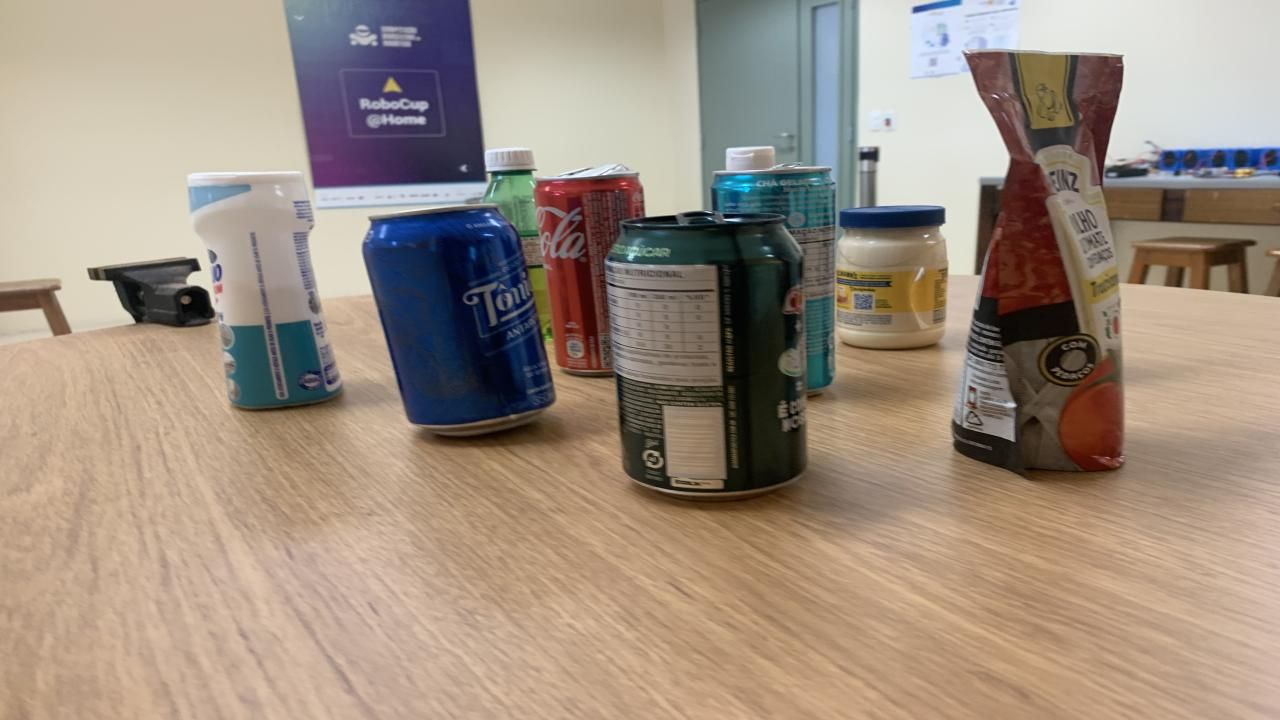Cleaner-Cleanup_Items: (188, 172, 342, 409)
Coke-Drinks: (535, 165, 645, 375)
Guarana-Drinks: (482, 148, 552, 338)
Guarana_Can-Drinks: (605, 214, 808, 497)
Mayonnaise-Pantry_Items: (835, 206, 948, 349)
Tea-Drinks: (710, 146, 835, 392)
Tomato_Sauce-Pantry_Items: (952, 51, 1125, 472)
Tonic-Drinks: (362, 204, 555, 435)
